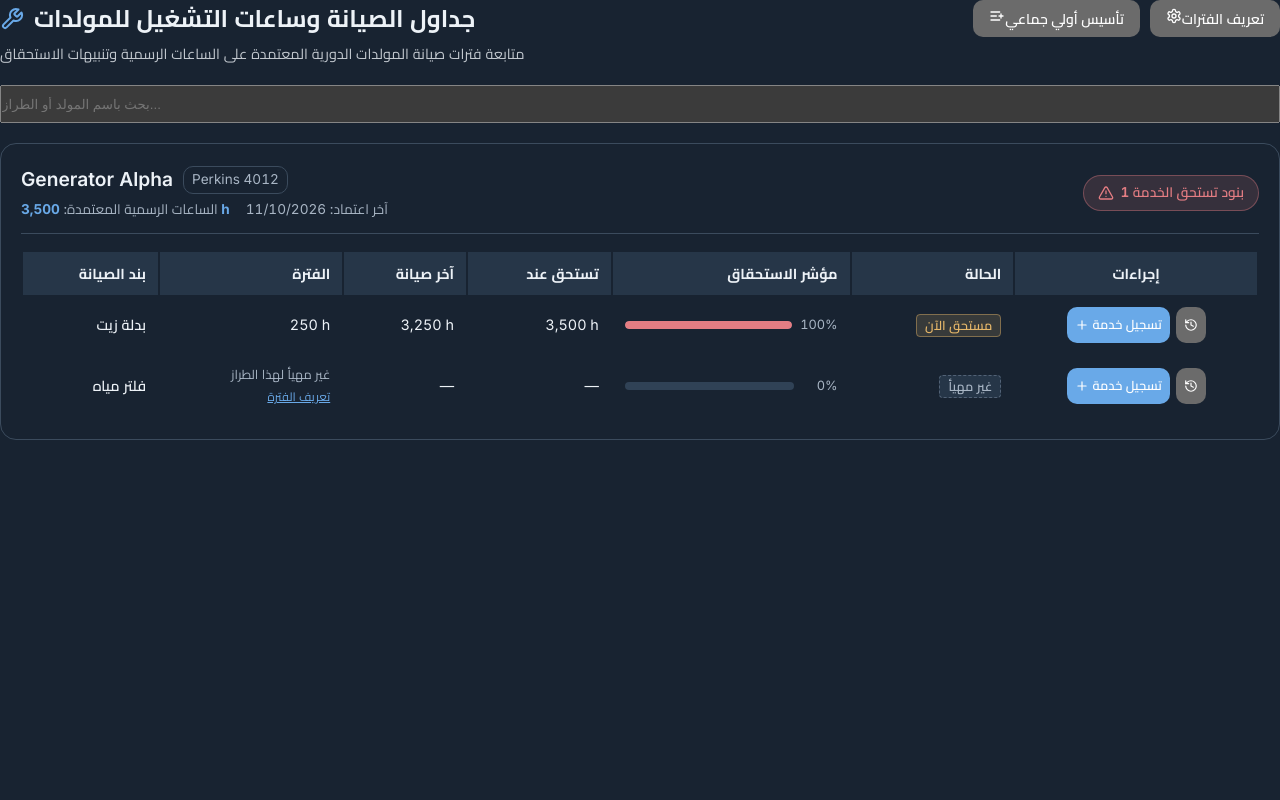
Scenario: GeneratorMaintenanceTable › displays oil not configured warning and configuration link in commercial mode when oil configuration is missing
The image size is (1280, 800).
Expected: the heading "Generator Alpha" is shown, [21,164,173,195]
Step 1. Click the button "تسجيل خدمة" in the row of "بدلة زيت" → (1118, 325), box [1066,307,1170,343]
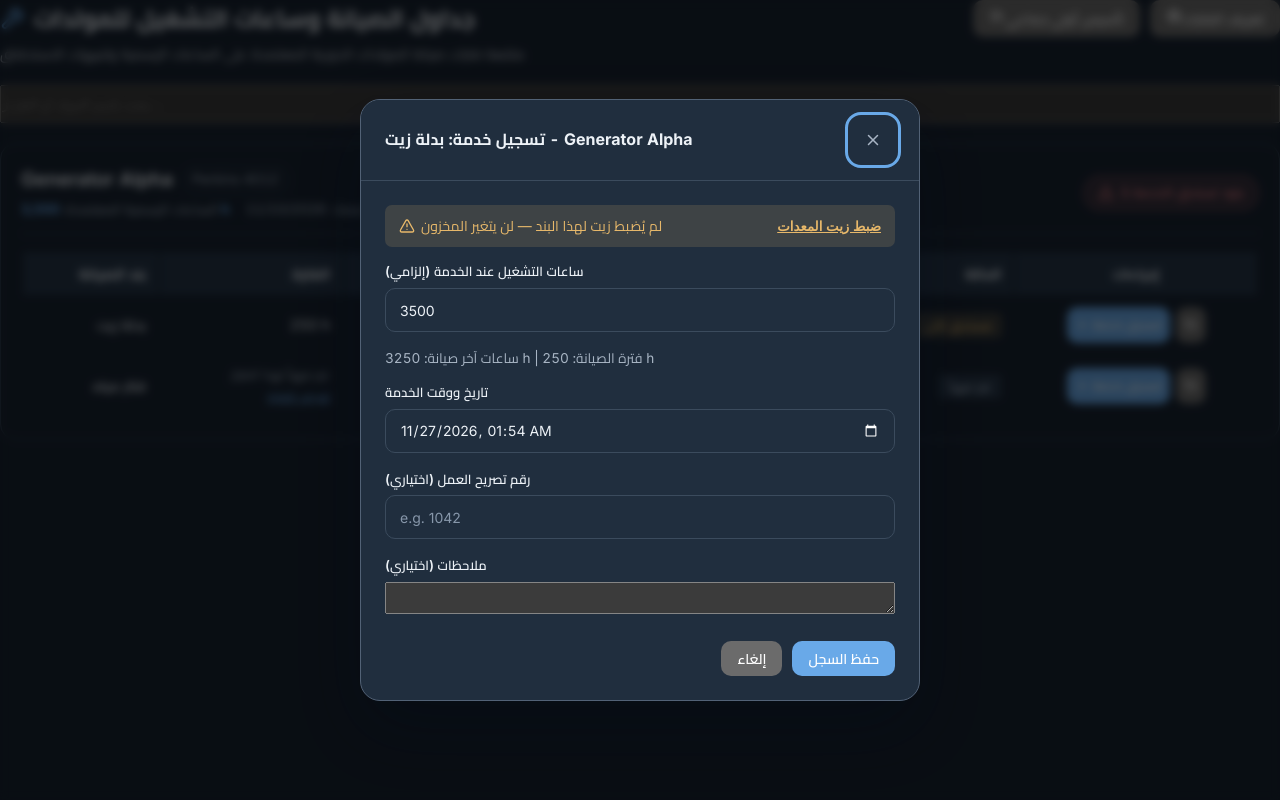
Expected: the text "لم يُضبط زيت لهذا البند — لن يتغير المخزون" is shown, [399,215,662,237]
Expected: the button "ضبط زيت المعدات" is shown, [777,218,881,234]
